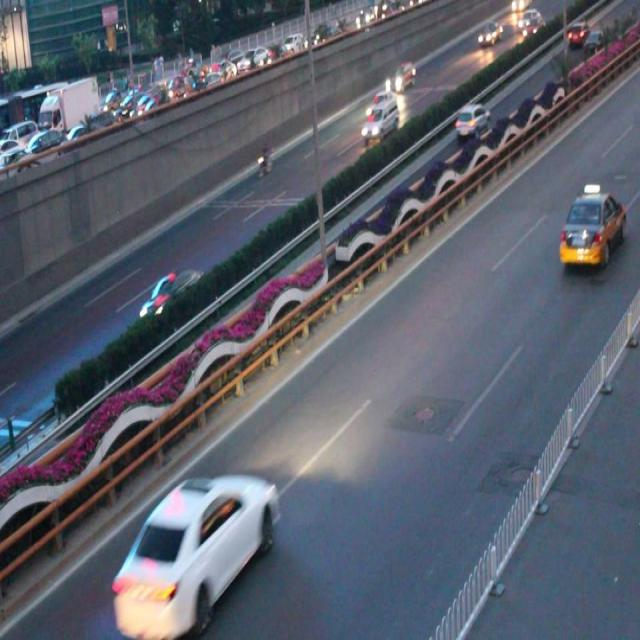car: (112, 469, 279, 640), (557, 185, 628, 270), (139, 271, 204, 318), (454, 100, 489, 139), (384, 59, 417, 95), (363, 88, 395, 122)
truck: (361, 106, 398, 144)
